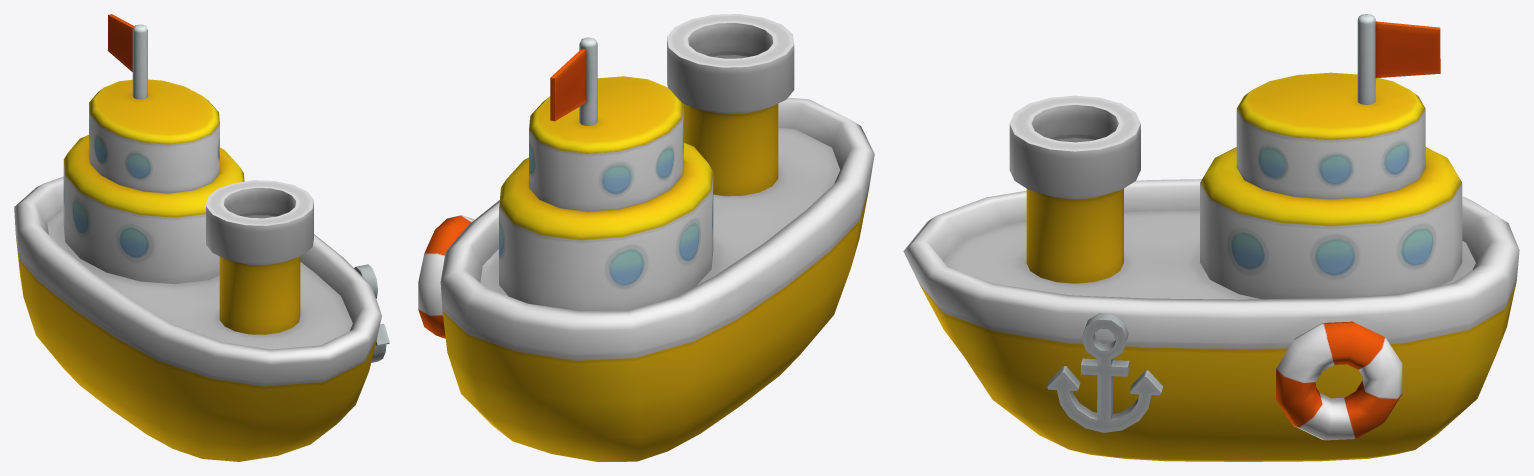
Rendered from ship_yellow.fbx.
3 renders of one model, left to right at view 1: azimuth 30°, elevation 25°; view 2: azimuth 150°, elevation 25°; view 3: azimuth 270°, elevation 25°, orthographic. The views are drawn at different scales.
Visible parts, largest first — view 1: ship_yellow; view 2: ship_yellow; view 3: ship_yellow.
Part boxes in pixels (left/top/right/bottom): ship_yellow: left=14, top=14, right=389, bottom=461; ship_yellow: left=418, top=14, right=874, bottom=461; ship_yellow: left=903, top=14, right=1519, bottom=461.
Bounding box in the file's own units: 0.7284 × 0.9006 × 1.23.
